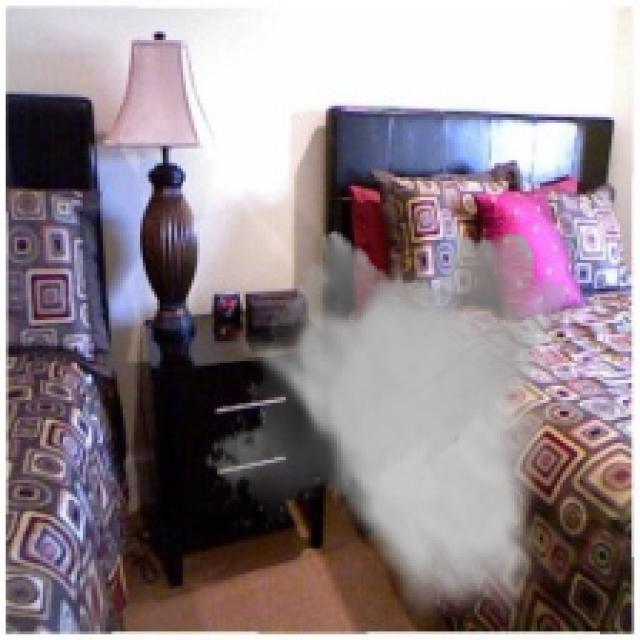smoke: (203, 220, 583, 631)
